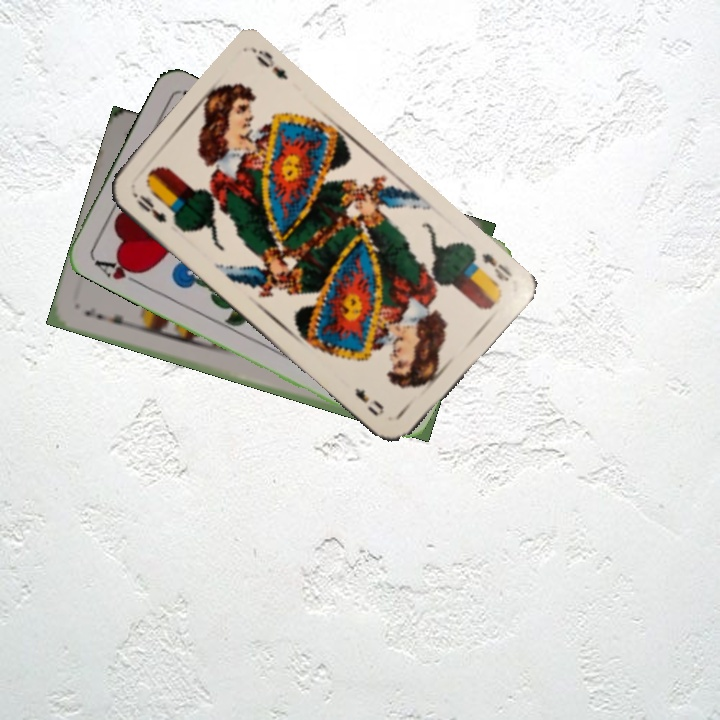E7: (80, 303, 133, 331)
EO: (128, 188, 170, 226), (477, 249, 515, 285)
HA: (89, 254, 148, 288)
